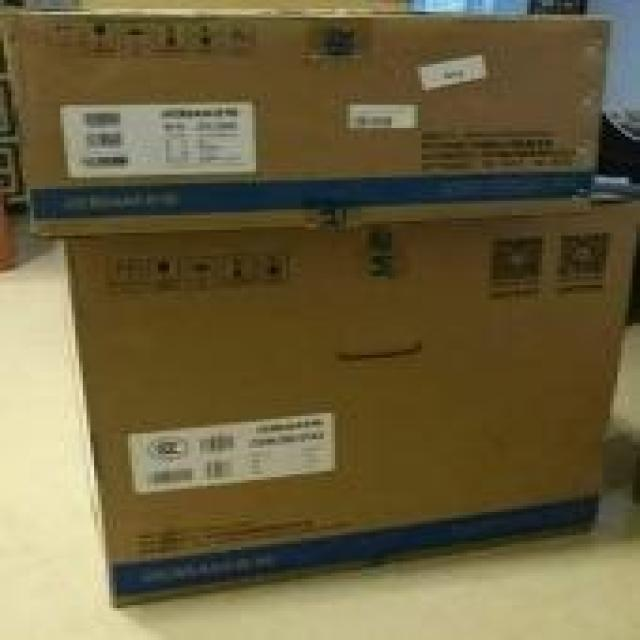box: (65, 176, 636, 607), (0, 9, 612, 238)
